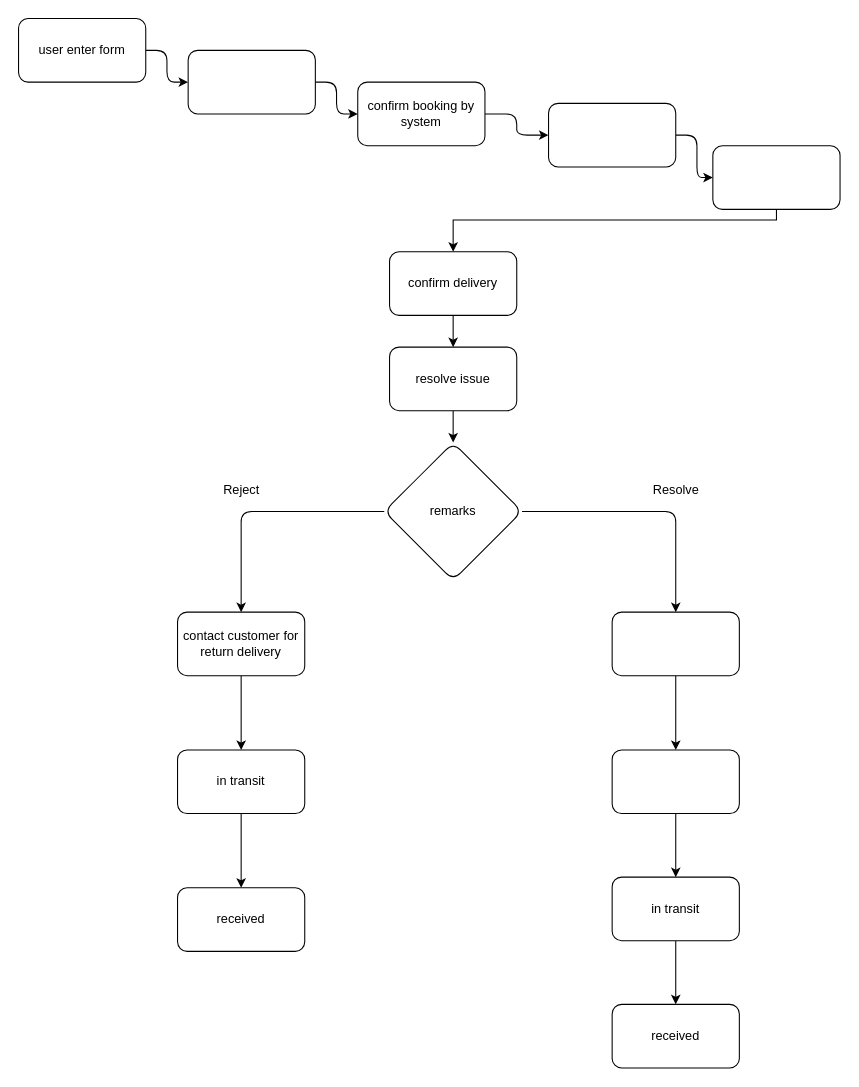
The diagram is 859 pixels wide and 1087 high, and some of its shapes have lost their labels. Each missing label, with the box of its shape:
confirm booking by user: (547, 102, 676, 167)
Contact Customer for proof and payment: (611, 611, 739, 676)
enter delivery: (712, 145, 840, 209)
received payment: (611, 749, 739, 814)
review form: (187, 49, 315, 114)
